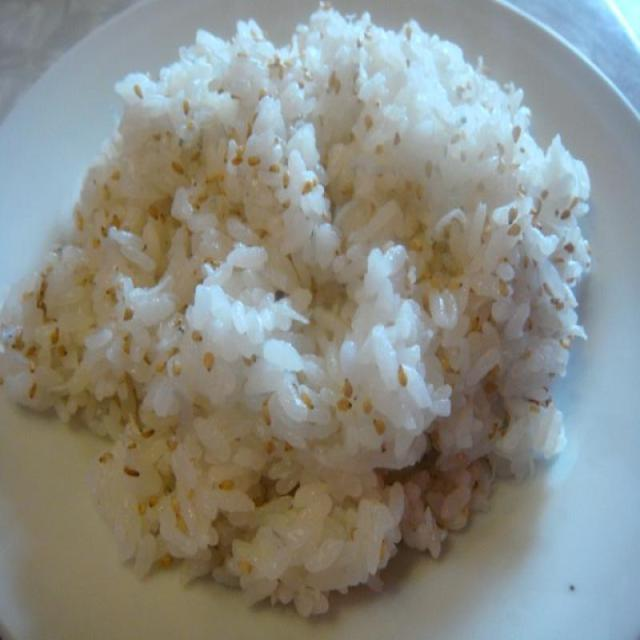nasi_putih: (1, 4, 589, 625)
